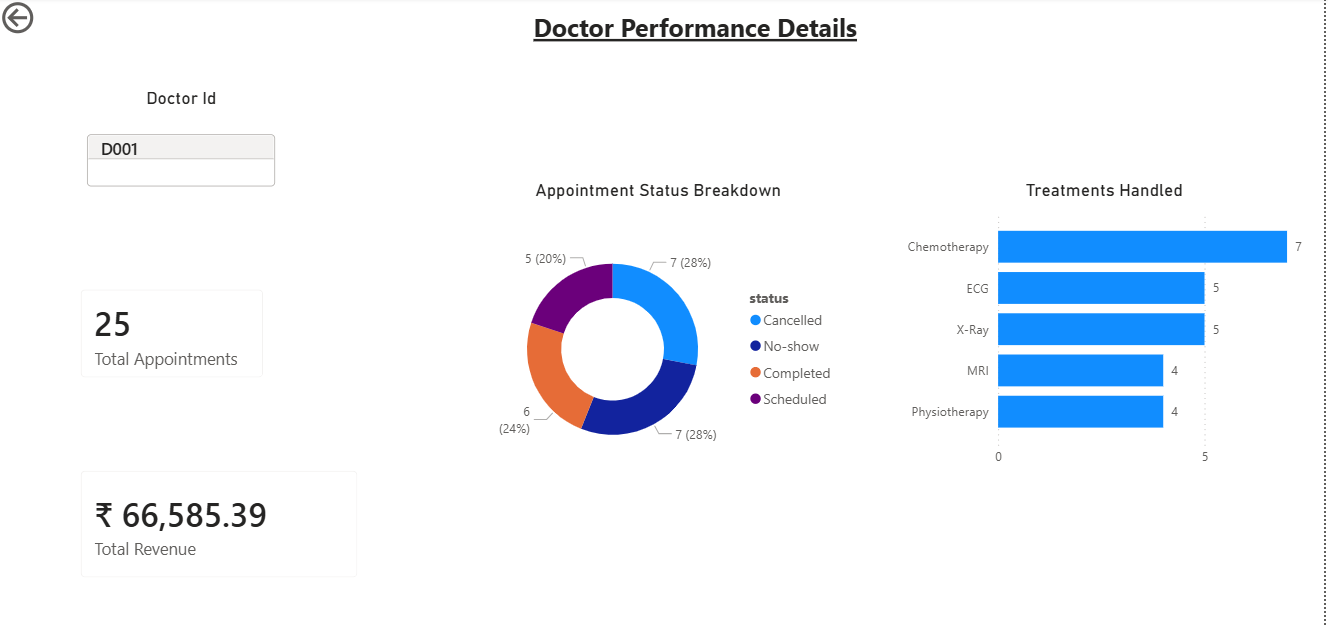

This screenshot's page, from the dashboard's own definition file:
{"tool":"powerbi","page":{"name":"Doctor Details","canvas":[1280,720],"ordinal":1},"visuals":[{"type":"textbox","box":[440.4,8.4,427.1,55.5],"z":0},{"type":"actionButton","box":[0,0,100,40],"z":1},{"type":"cardVisual","title":"Doctor Id","fields":{"Rows":["appointments.doctor_id"]},"box":[82.2,86.6,191.9,121.2],"z":2},{"type":"cardVisual","fields":{"Data":["Measures (2).Total Appointments"]},"box":[63.5,265.5,210.6,119.7],"z":3},{"type":"donutChart","title":"Appointment Status Breakdown","fields":{"Category":["appointments.status"],"Y":["CountNonNull(appointments.appointment_id)"]},"box":[457.4,176,362.1,307.3],"z":4},{"type":"cardVisual","fields":{"Data":["Measures (2).Total Revenue"]},"box":[63.5,440,301.5,137.1],"z":5},{"type":"clusteredBarChart","title":"Treatments Handled","fields":{"Category":["treatments.treatment_type"],"Y":["CountNonNull(treatments.treatment_id)"]},"box":[867.1,176,402.5,285.7],"z":6}]}

Visuals, with their boxes on the page's 1280x720 design canvas (x1, y1, x2, y2). These are canvas units, not pixel positions in the 1328x626 screenshot, which may show the page scaled, cropped or inside an application window:
textbox: region(440, 8, 868, 64)
actionButton: region(0, 0, 100, 40)
"Doctor Id" cardVisual: region(82, 87, 274, 208)
cardVisual - Measures (2).Total Appointments: region(64, 266, 274, 385)
"Appointment Status Breakdown" donutChart: region(457, 176, 820, 483)
cardVisual - Measures (2).Total Revenue: region(64, 440, 365, 577)
"Treatments Handled" clusteredBarChart: region(867, 176, 1270, 462)
